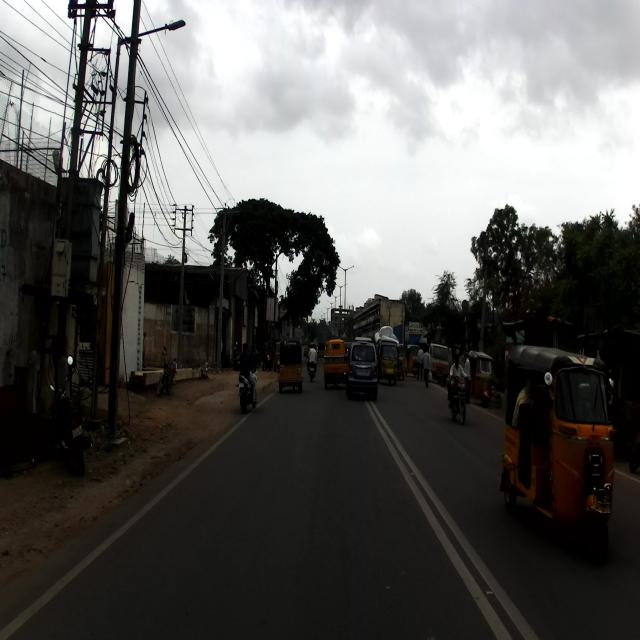autorickshaw: (497, 342, 617, 560)
car: (345, 336, 380, 401)
motorcycle: (47, 356, 88, 476)
